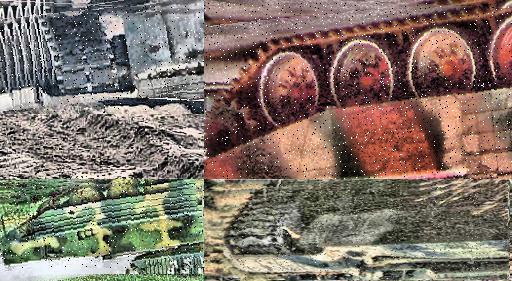tanks: (205, 5, 512, 180), (225, 185, 512, 281), (1, 7, 205, 114), (1, 184, 205, 269)
